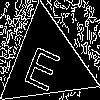E: (21, 37, 66, 93)
